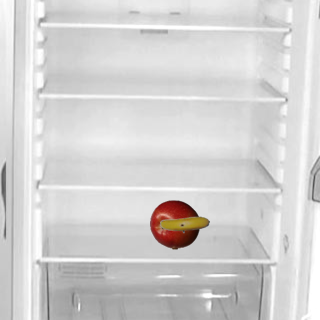Apple Braeburn: (149, 199, 199, 249)
Banana: (159, 199, 209, 249)
